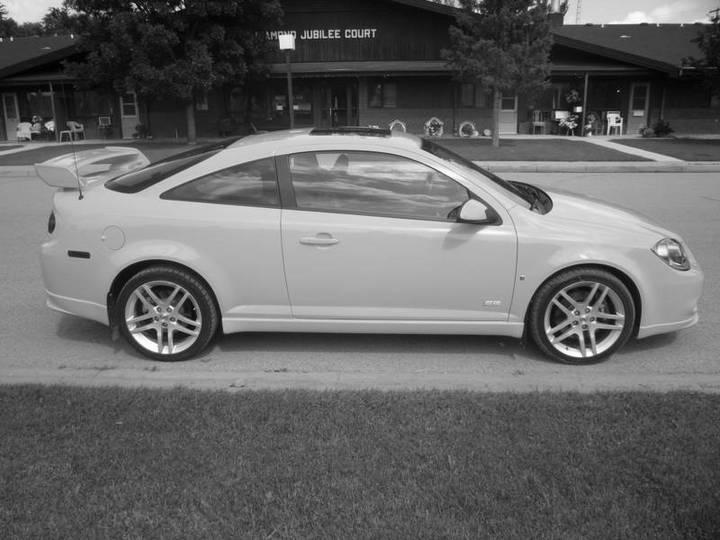car: (35, 124, 708, 368)
